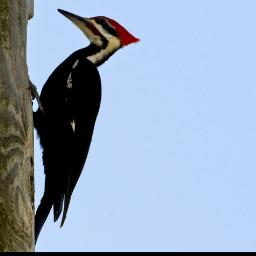Woodpecker: (30, 6, 145, 227)
